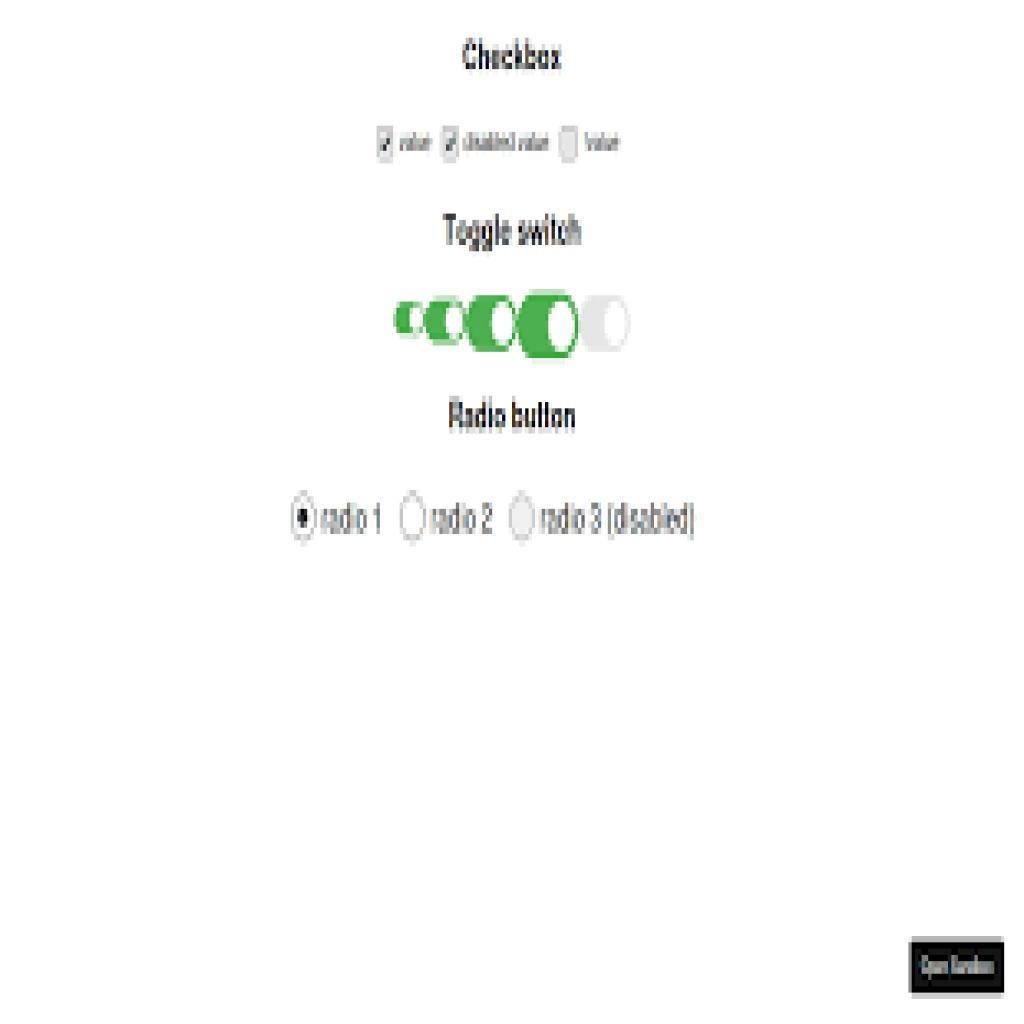checkbox: (441, 126, 462, 165), (377, 126, 395, 164), (561, 128, 580, 163)
label: (540, 500, 697, 544), (443, 210, 586, 252), (449, 394, 579, 437), (461, 36, 566, 74), (431, 501, 495, 538), (463, 132, 553, 154), (321, 504, 381, 537), (584, 131, 624, 155), (399, 130, 435, 154)
radio: (399, 488, 428, 548), (290, 490, 319, 548), (509, 490, 537, 547)
switch: (518, 289, 580, 360), (580, 295, 632, 354), (468, 293, 517, 352), (425, 295, 467, 348), (394, 300, 425, 338)
